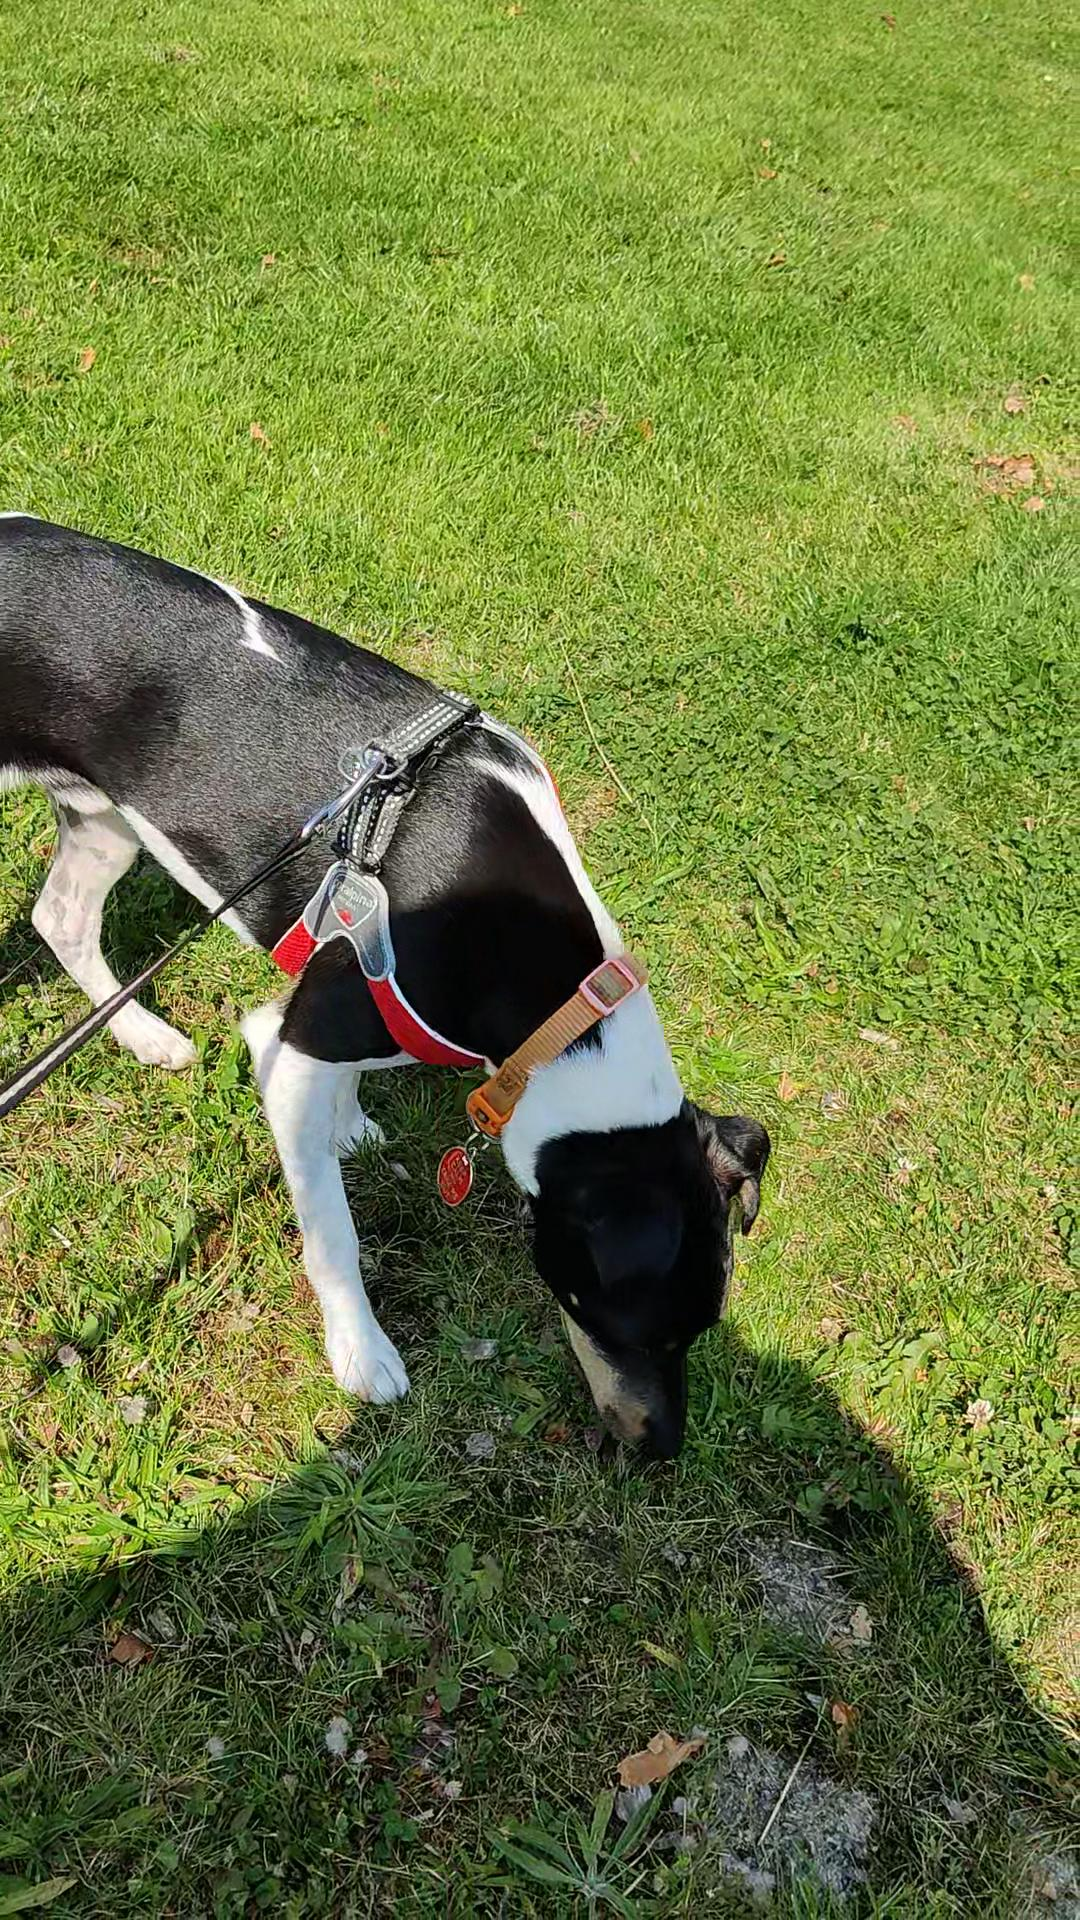Dog: (0, 480, 800, 1473)
